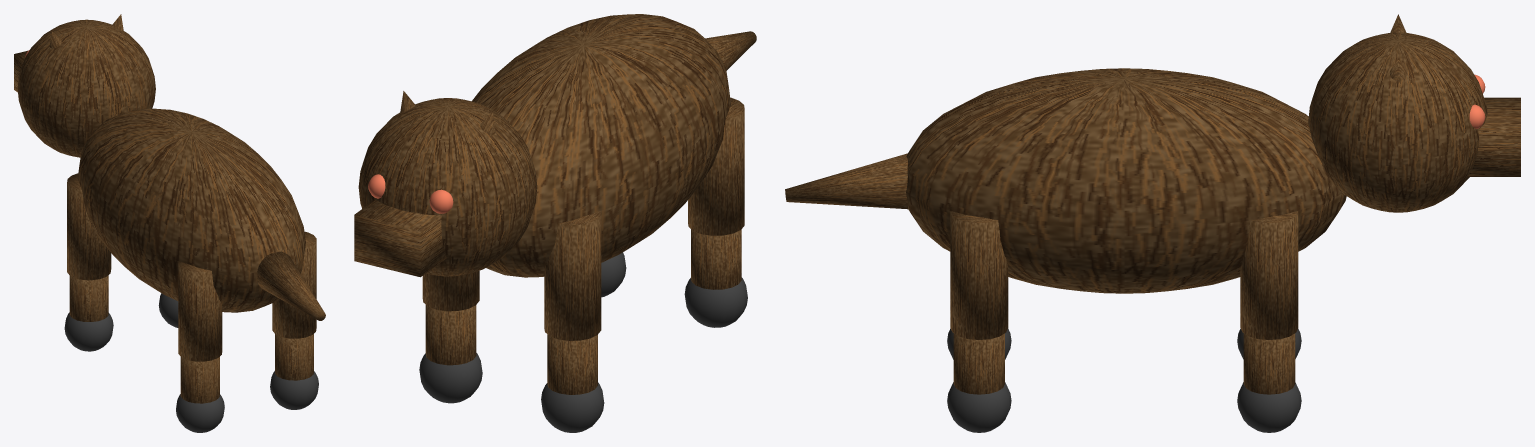
File: bugbear.glb
3 views of the same model, side by side, from view 1: azimuth 30°, elevation 25°; view 2: azimuth 150°, elevation 25°; view 3: azimuth 270°, elevation 25° (orthographic). The views are drawn at different scales.
Visible parts, largest first — view 1: Body, Head, LegUpper, LegUpper.001, Tail, LegUpper.002, LegLower, LegLower.001, LegLower.002, Paw.001, Paw, Paw.002 (+1 smaller); view 2: Body, Head, LegUpper.001, Snout, LegUpper, LegLower.003, LegLower, LegLower.001, Paw, Paw.003, Paw.001, LegUpper.003 (+3 smaller); view 3: Body, Head, LegUpper.003, LegUpper.002, Tail, Snout, LegLower.003, LegLower.002, Paw.002, Paw.003.
Boxes of the visible parts, box(x1,y1,x2,y2) form: Body: box(77, 108, 305, 312); Head: box(17, 19, 155, 157); LegUpper: box(178, 261, 222, 361); LegUpper.001: box(67, 173, 111, 280); Tail: box(257, 251, 325, 320); LegUpper.002: box(272, 231, 316, 338); LegLower: box(180, 357, 219, 403); LegLower.001: box(69, 275, 108, 321); LegLower.002: box(275, 334, 313, 380); Paw.001: box(64, 312, 113, 351); Paw: box(176, 394, 224, 432); Paw.002: box(270, 371, 318, 409); Body: box(472, 14, 730, 277); Head: box(358, 98, 537, 276); LegUpper.001: box(544, 211, 601, 340); Snout: box(354, 199, 446, 277); LegUpper: box(688, 97, 744, 235); LegLower.003: box(425, 305, 476, 365); LegLower: box(691, 229, 741, 289); LegLower.001: box(547, 334, 597, 394); Paw: box(684, 277, 747, 327); Paw.003: box(419, 353, 482, 403); Paw.001: box(541, 382, 604, 432); LegUpper.003: box(422, 270, 479, 311); Body: box(906, 68, 1346, 293); Head: box(1308, 32, 1487, 212); LegUpper.003: box(1240, 211, 1298, 339); LegUpper.002: box(950, 211, 1008, 339); Tail: box(785, 153, 907, 209); Snout: box(1468, 97, 1520, 176); LegLower.003: box(1243, 333, 1295, 394); LegLower.002: box(953, 333, 1004, 394); Paw.002: box(947, 382, 1011, 432); Paw.003: box(1237, 382, 1301, 432).
Size of the model in its own units: 0.5535 by 0.986 by 1.8.
Materials: 3 (1 with a texture image).
